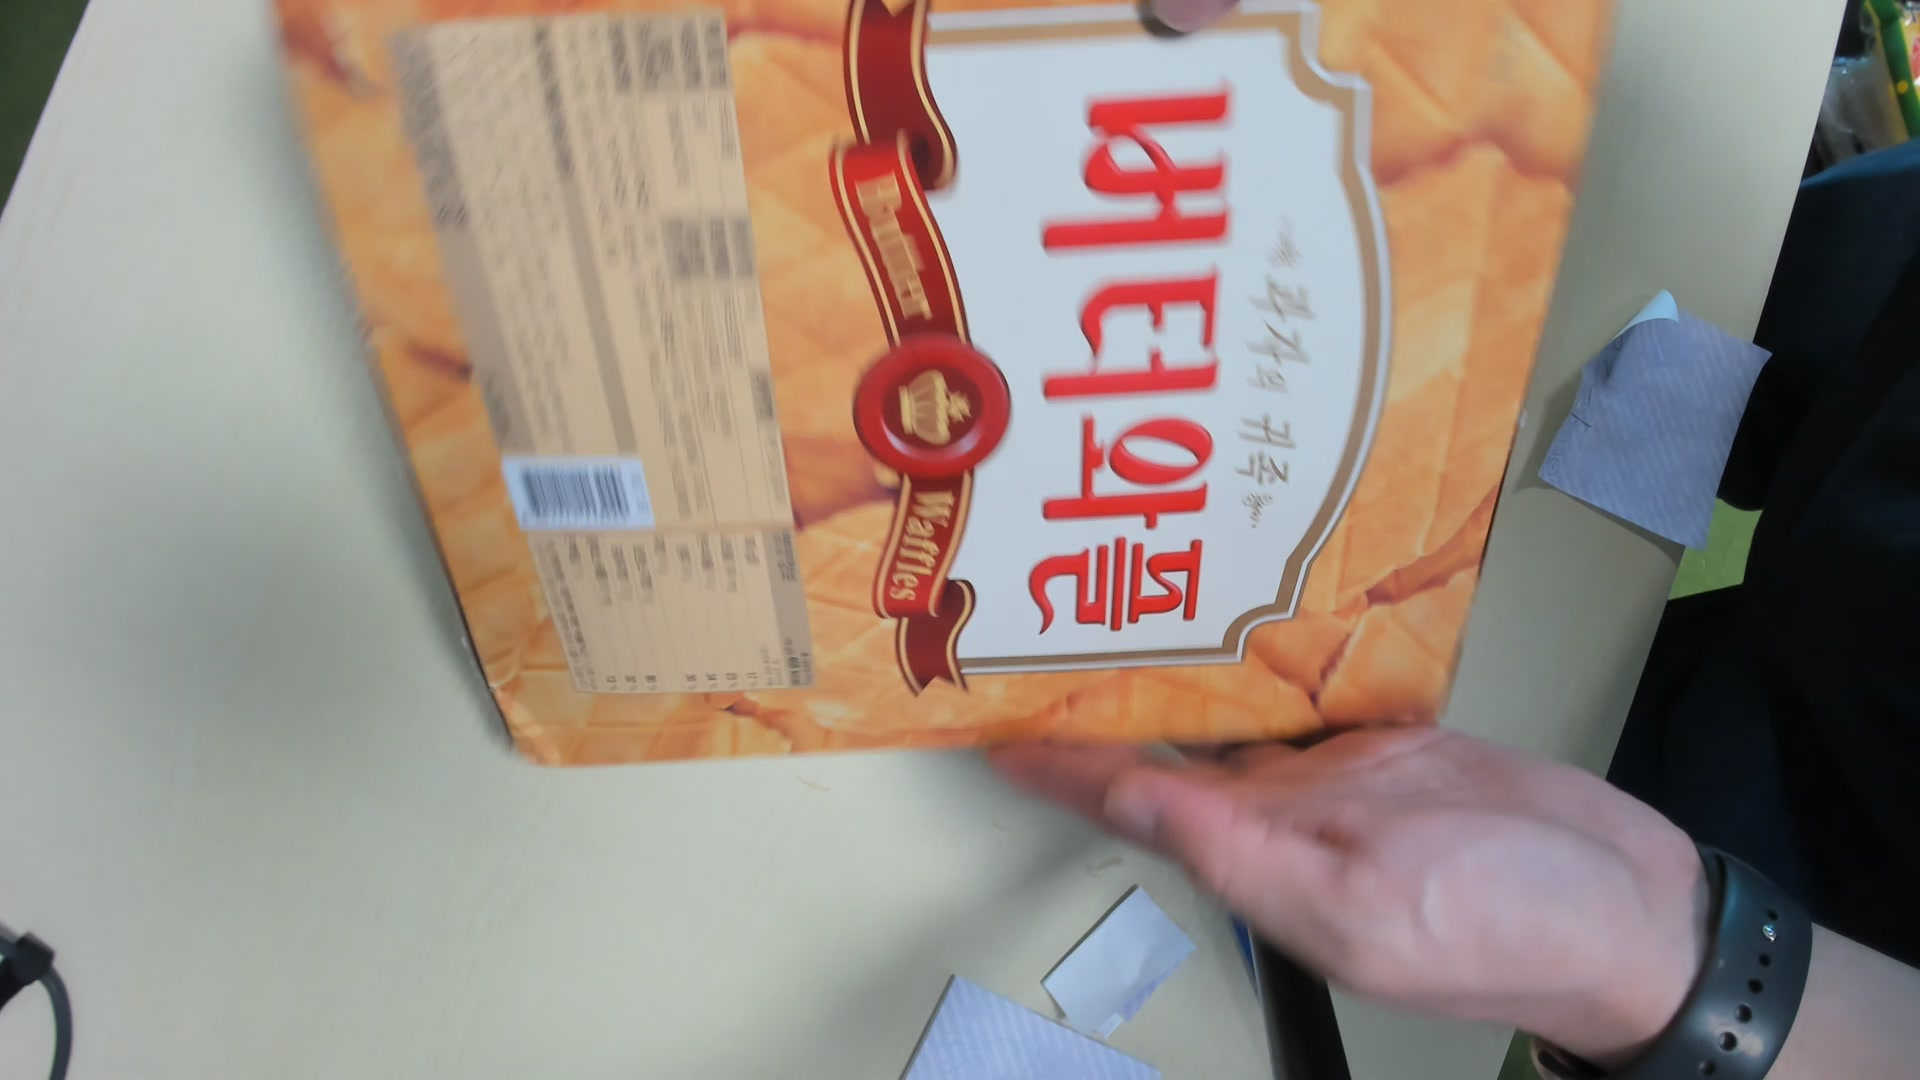BiscuitsCrackersCookies_300-399g_NonHalal_NonHealthy: (261, 3, 1601, 771)
